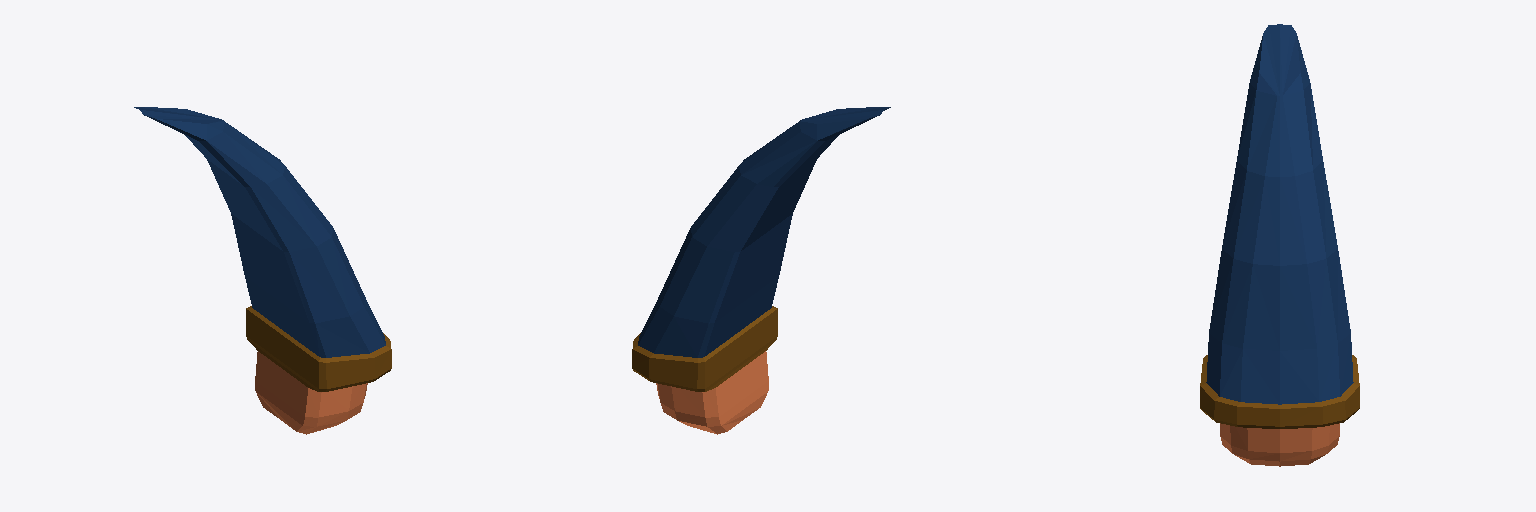
File: character_queenArmLeft.obj
The picture shows the model from 3 angles: view 1: azimuth 30°, elevation 25°; view 2: azimuth 150°, elevation 25°; view 3: azimuth 270°, elevation 25°; orthographic projection.
Parts seen in each view (by area): view 1: character_queenArmLeft_Cube.139; view 2: character_queenArmLeft_Cube.139; view 3: character_queenArmLeft_Cube.139.
Boxes of the visible parts, x1,y1,x2,y2 form: character_queenArmLeft_Cube.139: [134, 107, 391, 434]; character_queenArmLeft_Cube.139: [632, 107, 890, 434]; character_queenArmLeft_Cube.139: [1200, 24, 1359, 466].
Size of the model in its own units: 0.4036 by 0.5708 by 0.2371.